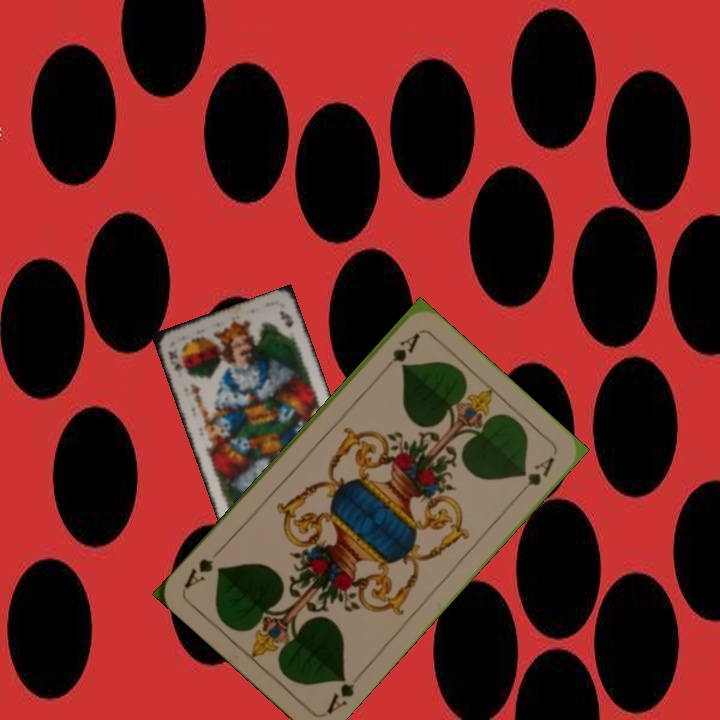GA: (377, 328, 423, 377), (322, 671, 358, 717)
SK: (165, 346, 184, 373)
